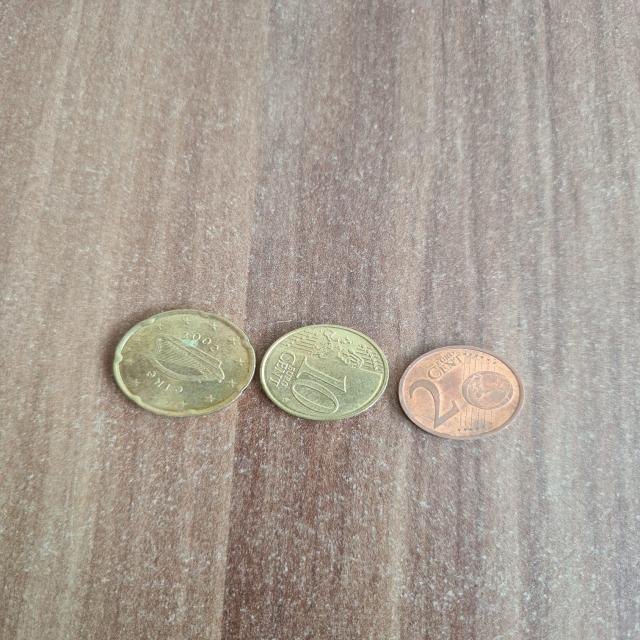10c: (254, 321, 400, 430)
20c: (96, 306, 264, 427)
2c: (391, 343, 535, 449)
